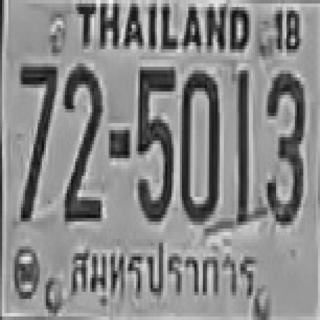N00: (180, 67, 218, 218)
N01: (234, 69, 247, 220)
N02: (62, 63, 101, 218)
N03: (264, 69, 303, 220)
N05: (136, 63, 174, 218)
N07: (19, 60, 57, 218)
P57: (65, 234, 258, 308)
